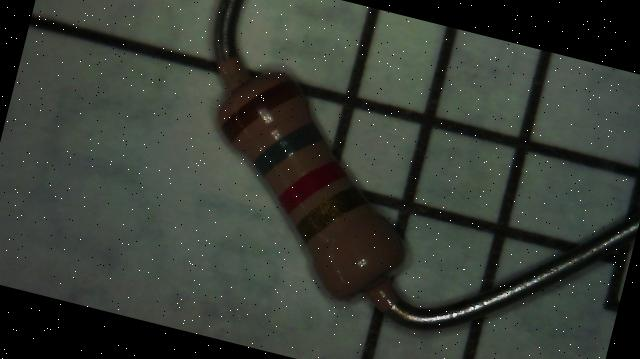brown: (218, 66, 305, 156)
gold: (292, 176, 368, 254)
grey: (250, 112, 326, 189)
red: (275, 150, 347, 224)
resistor: (177, 36, 451, 335)
